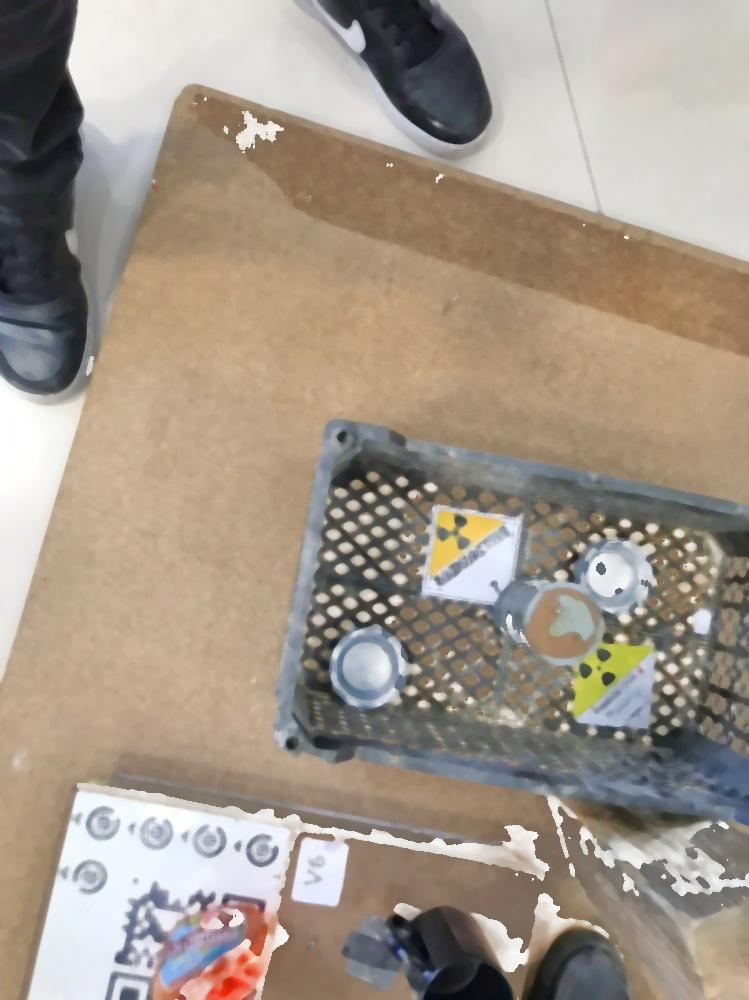radioactive: (423, 507, 522, 606), (571, 645, 654, 729)
